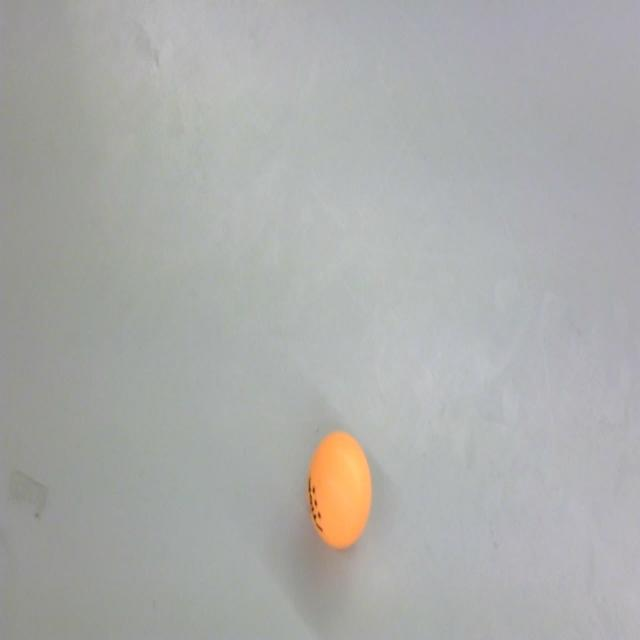ball: (308, 425, 372, 551)
